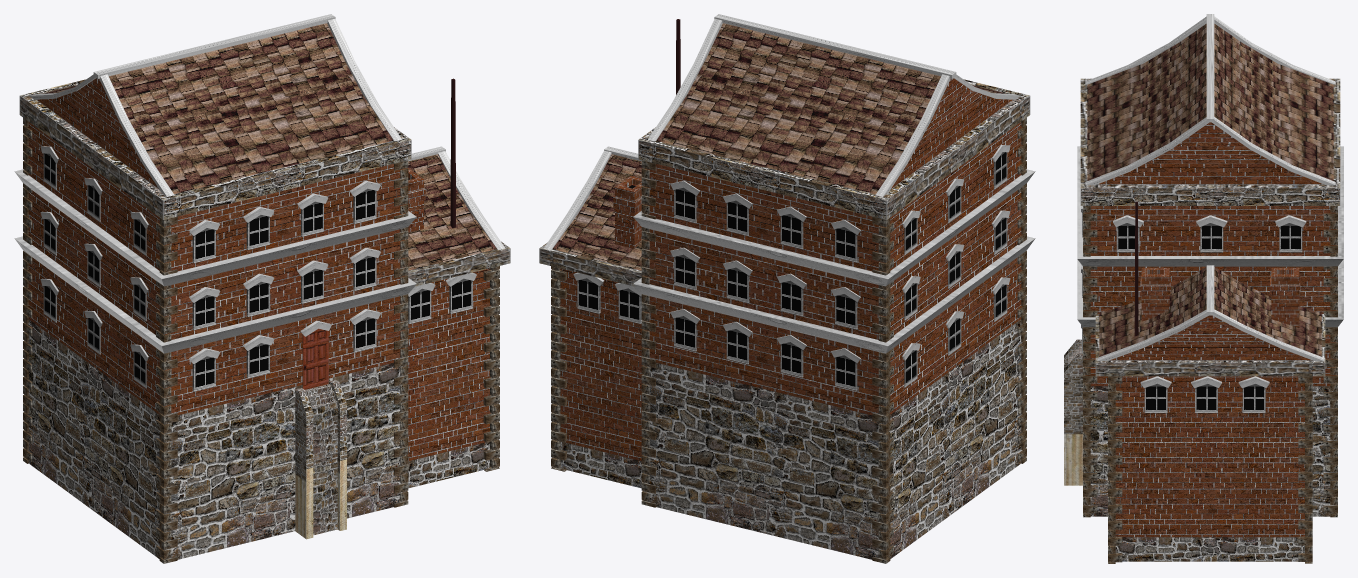
File: brit_arsenal.dae
3 renders of one model, left to right at view 1: azimuth 30°, elevation 25°; view 2: azimuth 150°, elevation 25°; view 3: azimuth 270°, elevation 25°, orthographic. The views are drawn at different scales.
Parts seen in each view (by area): view 1: BRITArsenal; view 2: BRITArsenal; view 3: BRITArsenal.
Part boxes in pixels (bbox=[...]): BRITArsenal: bbox=[14, 14, 510, 563]; BRITArsenal: bbox=[539, 14, 1035, 563]; BRITArsenal: bbox=[1064, 14, 1343, 563].
Size of the model in its own units: 24.06 by 17.95 by 28.07.
